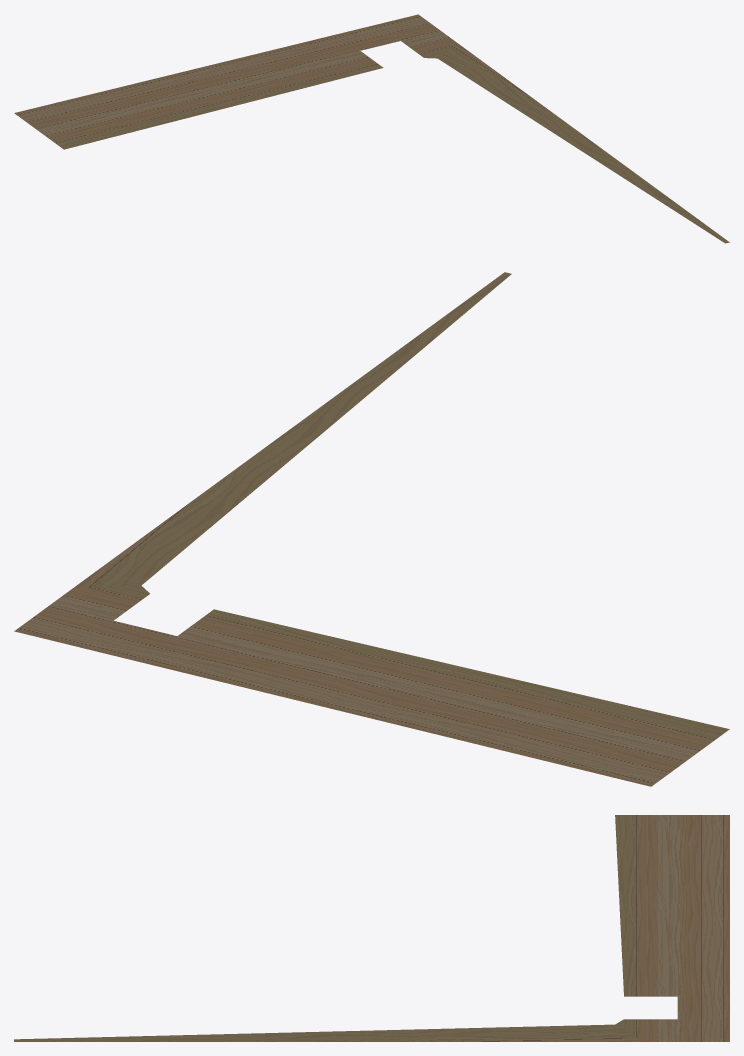
Rendered from kd_stage_135b75_4_22_bounded_portal_piece_1.glb.
3 renders of one model, top to bottom at view 1: azimuth 30°, elevation 25°; view 2: azimuth 150°, elevation 25°; view 3: azimuth 270°, elevation 25°, orthographic. The views are drawn at different scales.
Visible parts, largest first — view 1: kd_stage_135b75_4_22_bounded_portal_piece_1; view 2: kd_stage_135b75_4_22_bounded_portal_piece_1; view 3: kd_stage_135b75_4_22_bounded_portal_piece_1.
Boxes of the visible parts, x1,y1,x2,y2 form: kd_stage_135b75_4_22_bounded_portal_piece_1: (14,14,729,243); kd_stage_135b75_4_22_bounded_portal_piece_1: (14,272,729,786); kd_stage_135b75_4_22_bounded_portal_piece_1: (14,815,729,1041).
Bounding box in the file's own units: 3.51 × 4.77e-07 × 4.68.
1 material, 1 textured.
